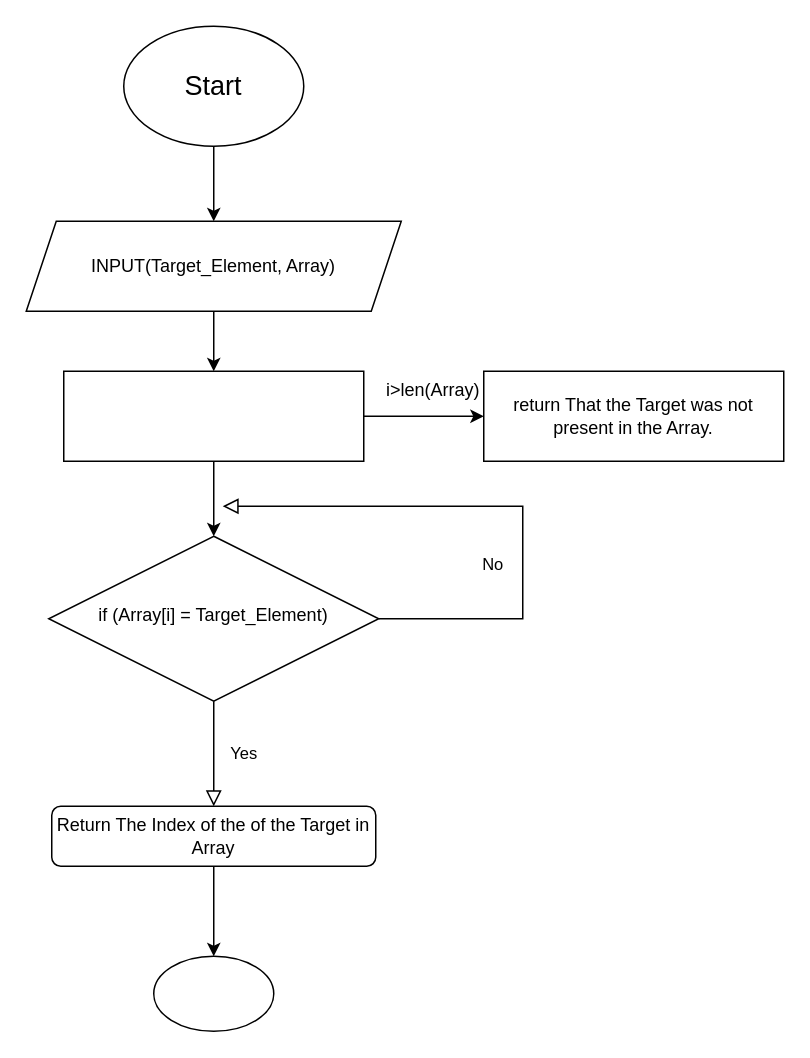
Image size: 810x1058. Some labels were removed from this diagram. The shapes that lost their labels are listed below. From the top down, each one's centre as x and y in pixels, then its label:
[213,415]: For (i=0; i<=len(Array); i++)
[213,993]: End
